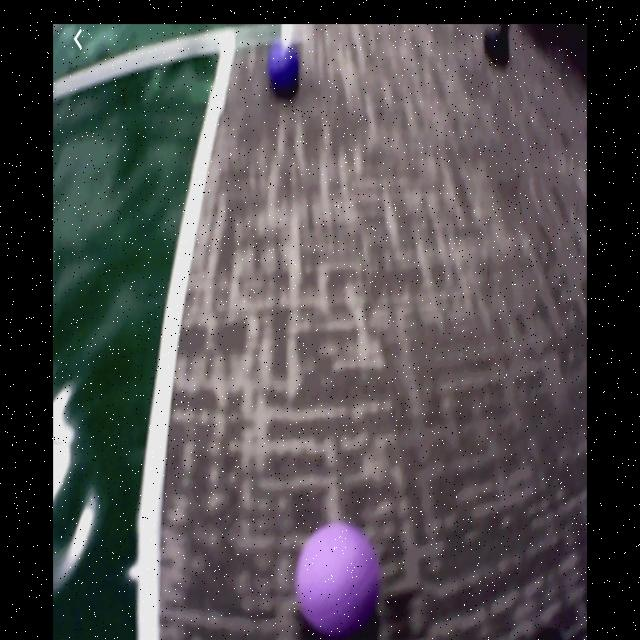ball: (297, 524, 380, 633), (269, 45, 301, 99)
